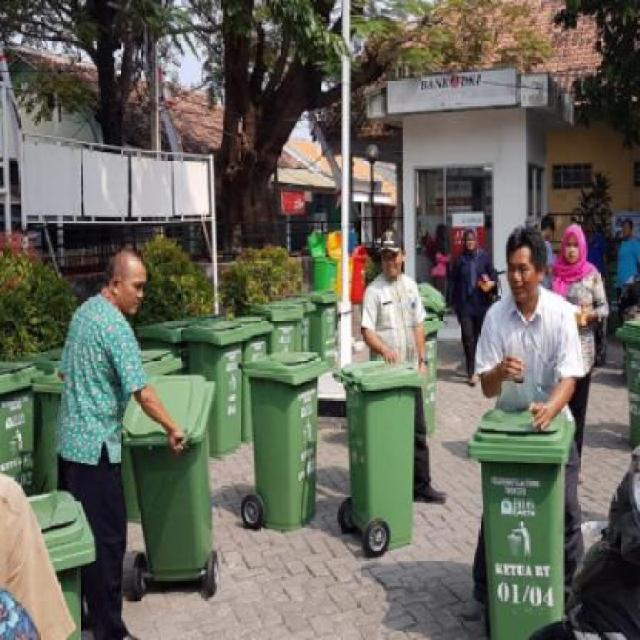garbage container: (466, 400, 582, 638), (122, 370, 220, 608), (333, 354, 429, 560), (235, 350, 338, 541), (28, 488, 101, 638), (2, 351, 43, 495)
